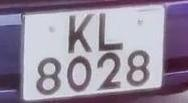0: (64, 53, 94, 95)
2: (94, 51, 127, 93)
8: (32, 51, 65, 101), (123, 46, 153, 93)
K: (63, 9, 97, 58)
L: (94, 9, 128, 54)
